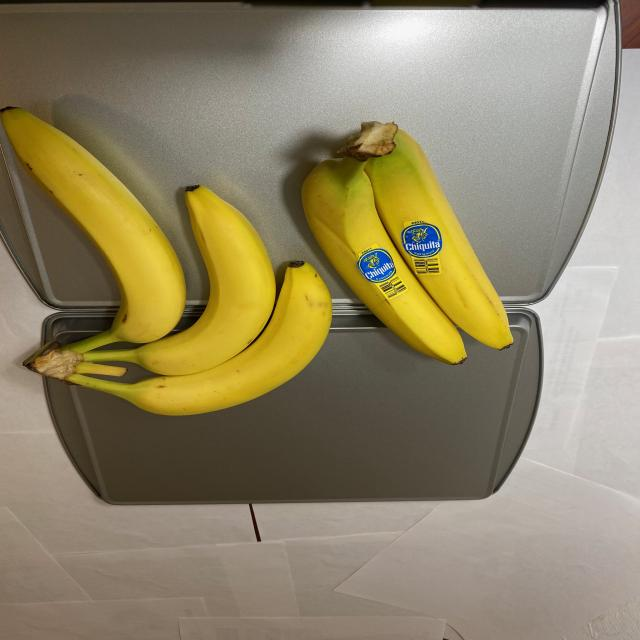banana: (8, 94, 339, 410), (284, 112, 524, 364)
